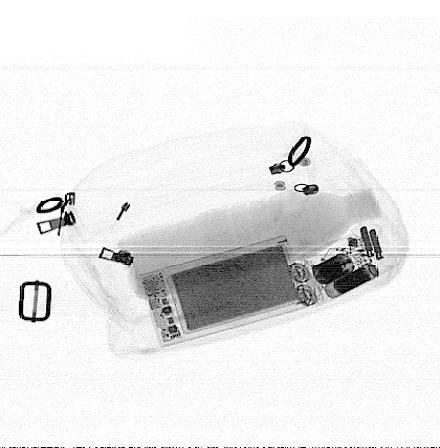Powerbank: (136, 234, 309, 348)
